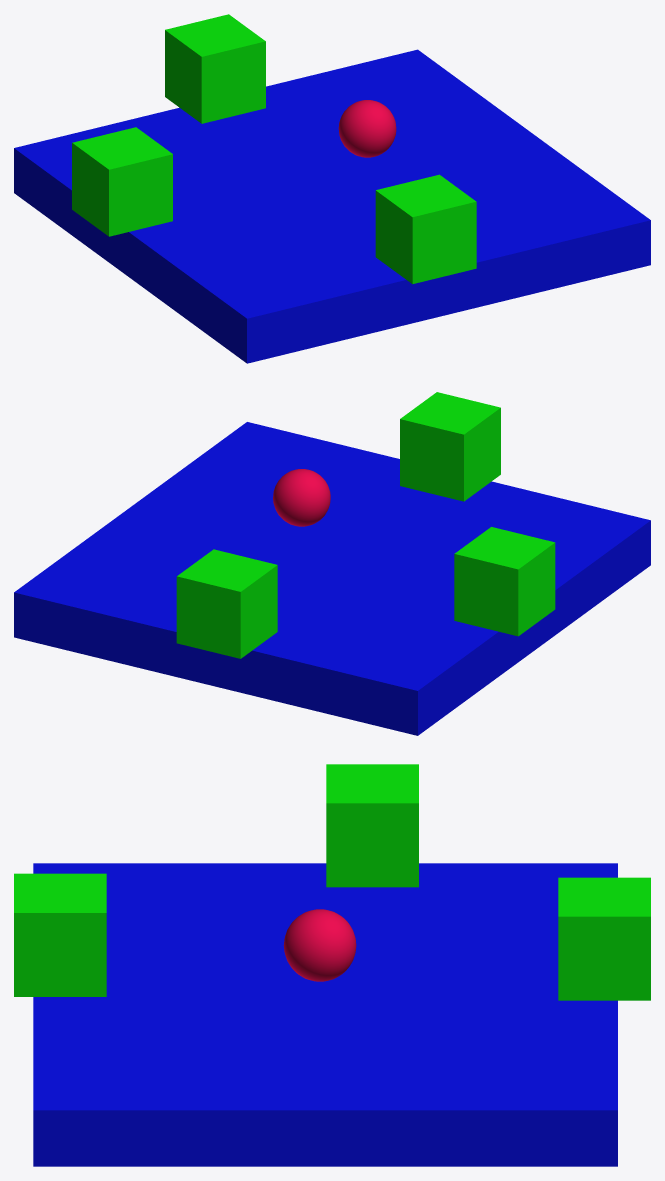
The model's file is game.glb.
The picture shows the model from 3 angles, top to bottom: view 1: azimuth 30°, elevation 25°; view 2: azimuth 150°, elevation 25°; view 3: azimuth 270°, elevation 25°; orthographic projection. The views are drawn at different scales.
Visible parts, largest first — view 1: Cube, Cube.003, Cube.001, Cube.002, Sphere; view 2: Cube, Cube.001, Cube.002, Cube.003, Sphere; view 3: Cube, Cube.001, Cube.002, Cube.003, Sphere.
Boxes of the visible parts, left/top/right/bottom form: Cube: left=14, top=49, right=650, bottom=363; Cube.003: left=375, top=174, right=476, bottom=284; Cube.001: left=72, top=127, right=172, bottom=236; Cube.002: left=165, top=14, right=265, bottom=123; Sphere: left=338, top=100, right=396, bottom=157; Cube: left=14, top=422, right=650, bottom=735; Cube.001: left=454, top=527, right=555, bottom=636; Cube.002: left=176, top=549, right=277, bottom=658; Cube.003: left=400, top=392, right=500, bottom=501; Sphere: left=273, top=469, right=330, bottom=526; Cube: left=33, top=863, right=617, bottom=1166; Cube.001: left=326, top=764, right=418, bottom=887; Cube.002: left=558, top=877, right=650, bottom=1000; Cube.003: left=14, top=873, right=106, bottom=996; Sphere: left=283, top=909, right=356, bottom=981.
Bounding box in the file's own units: 13.28 × 3.59 × 13.74.
